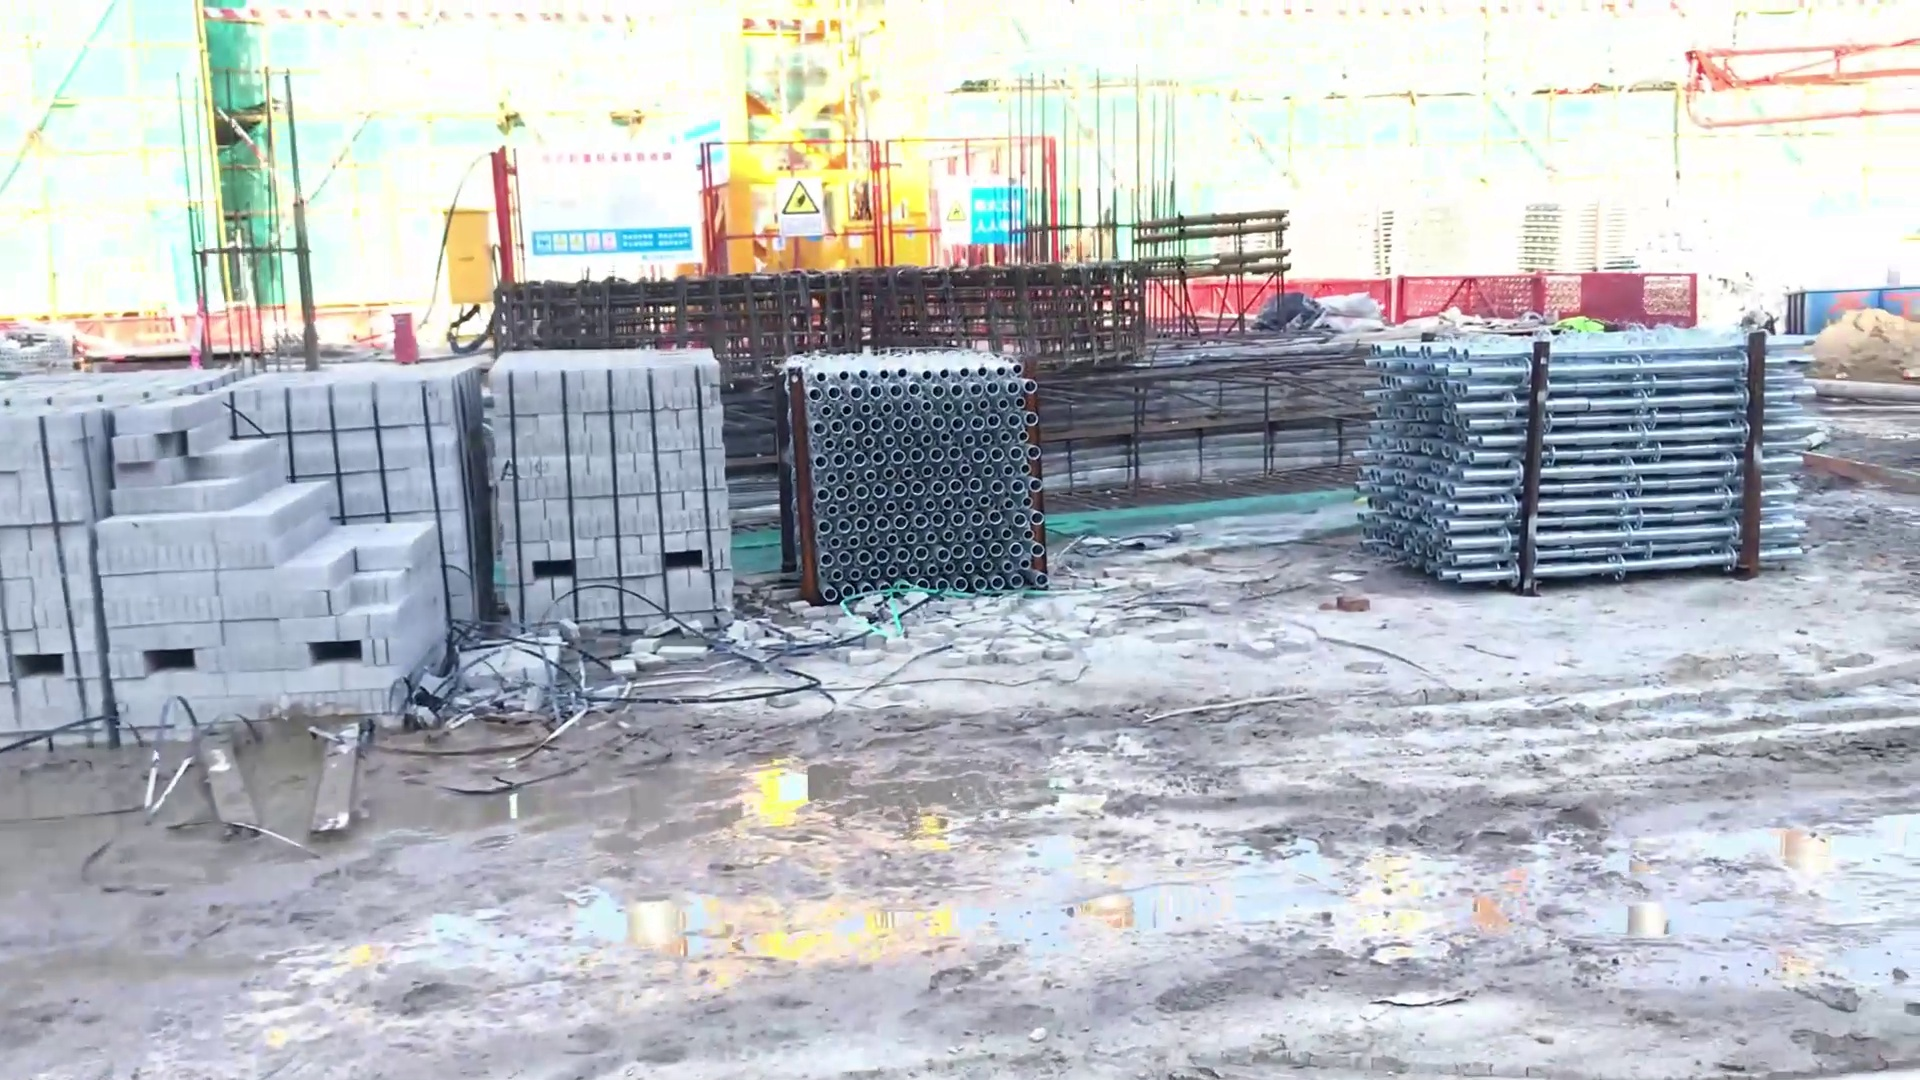brick: (105, 392, 448, 727), (483, 353, 735, 637), (1, 396, 92, 719)
ebox: (431, 203, 501, 301)
fence: (1379, 258, 1698, 338)
hopper: (1788, 273, 1916, 344)
scaffold: (1367, 328, 1807, 588), (758, 342, 1065, 626)
slogan: (531, 222, 709, 258), (934, 185, 1029, 247), (773, 183, 832, 239)
